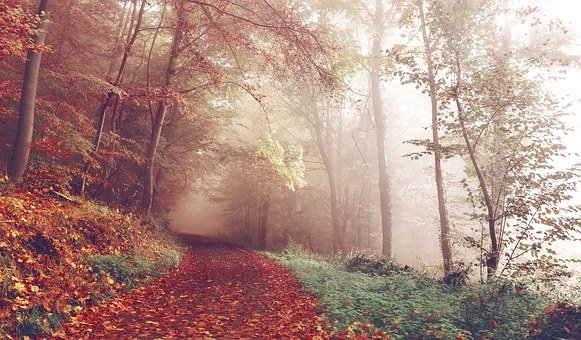forest: (6, 8, 563, 323)
tree: (390, 1, 568, 294), (130, 7, 245, 214)
